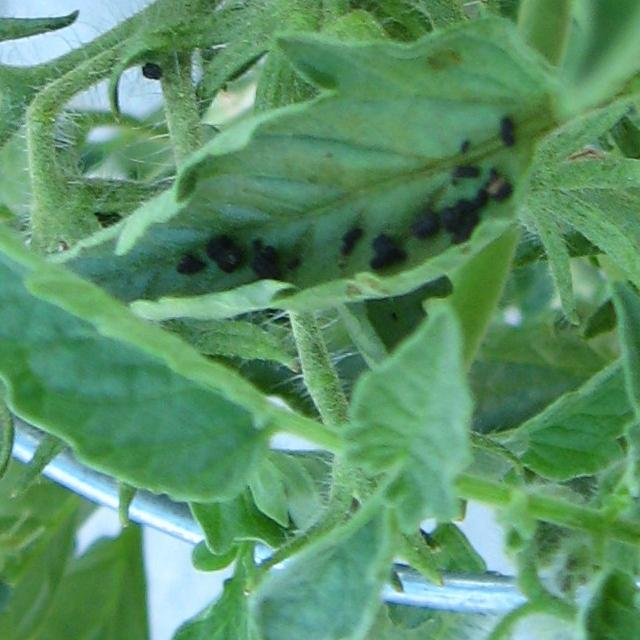Tomato leaf: (0, 158, 299, 491)
